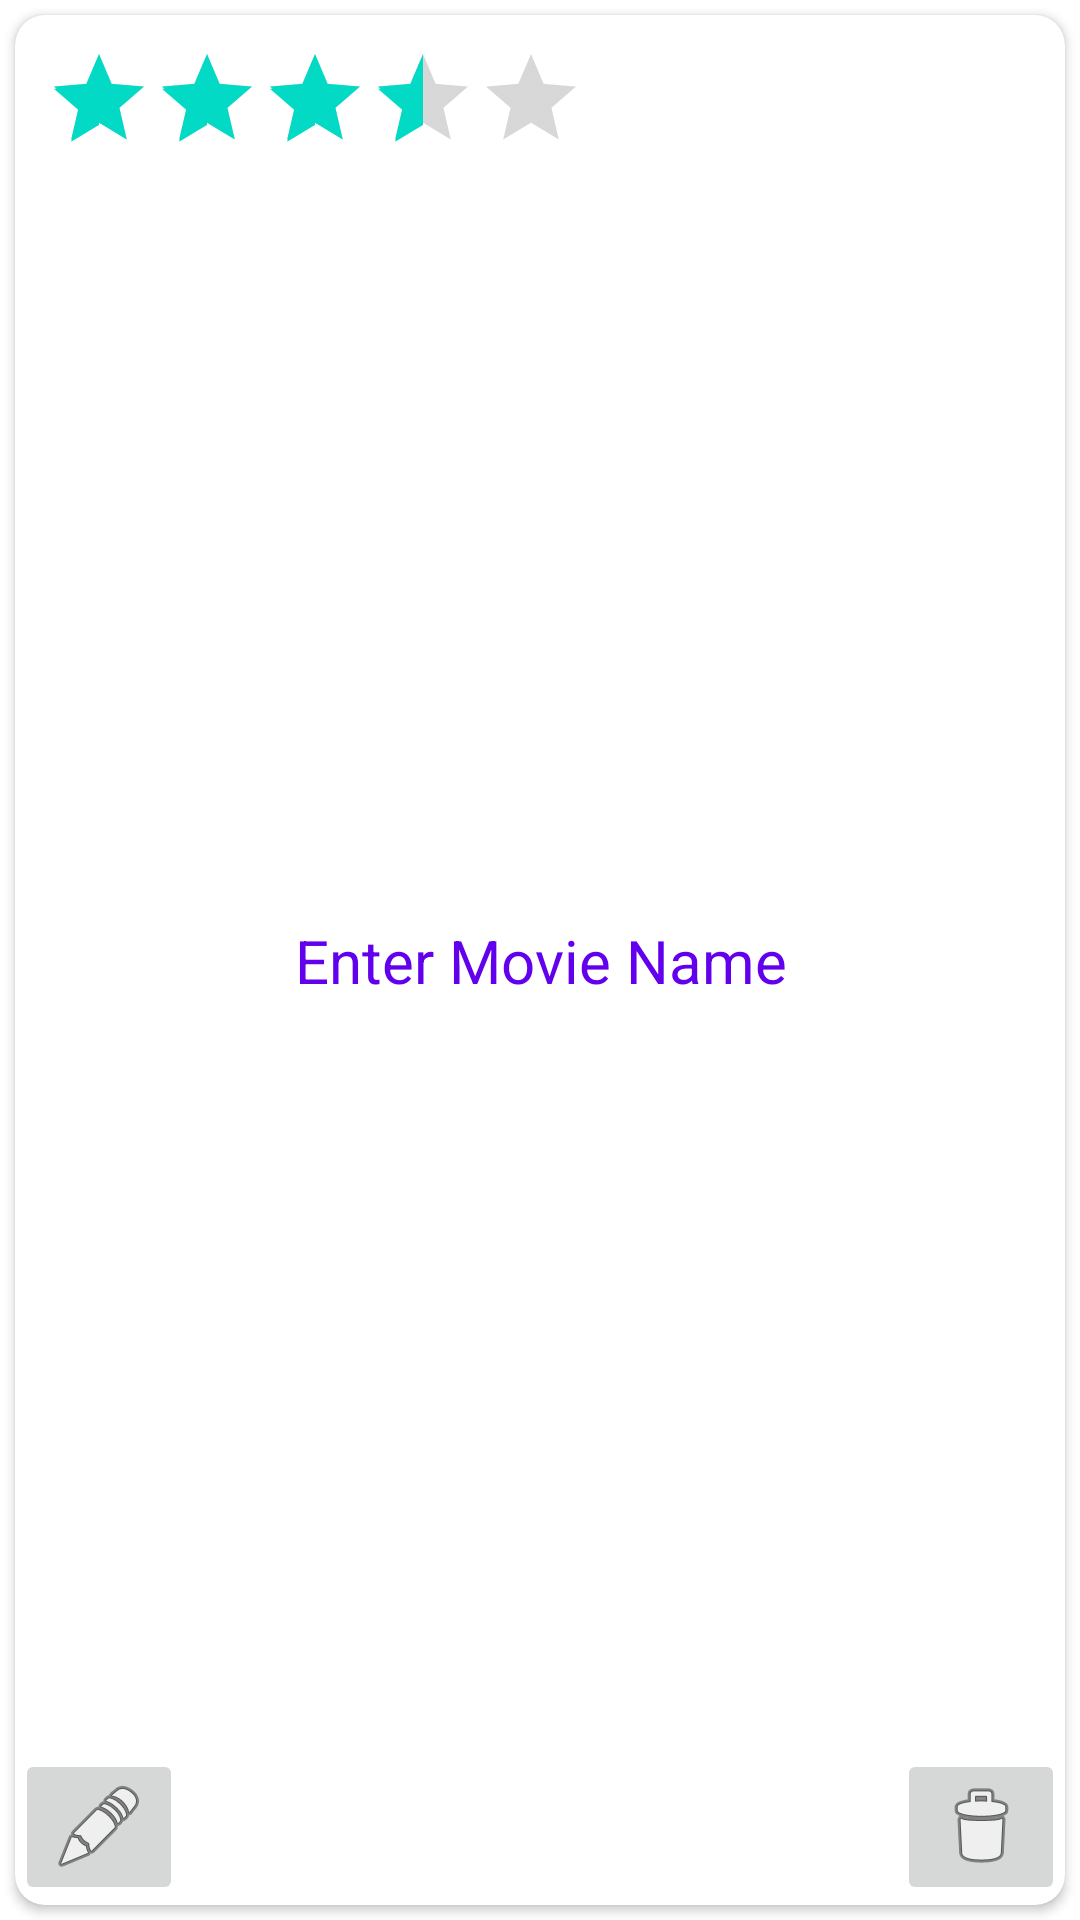

Screen size 1080w x 1920h. Icon name, then its box in pixels as bbox(x1, y1, x2, y2):
delete: bbox(909, 1767, 1053, 1887)
edit: bbox(27, 1767, 171, 1887)
